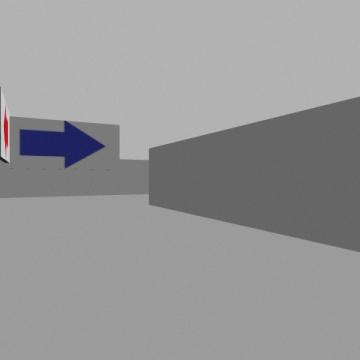blue_right: (20, 122, 105, 168)
